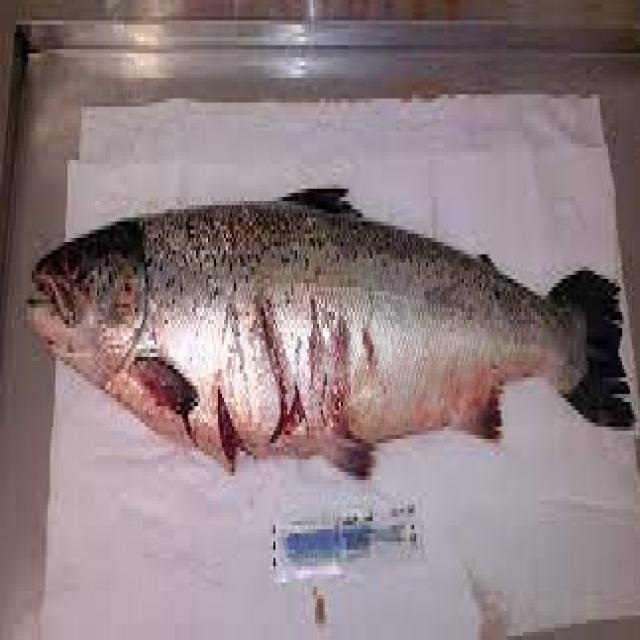EUS Disease: (23, 181, 633, 485), (165, 266, 483, 475)
